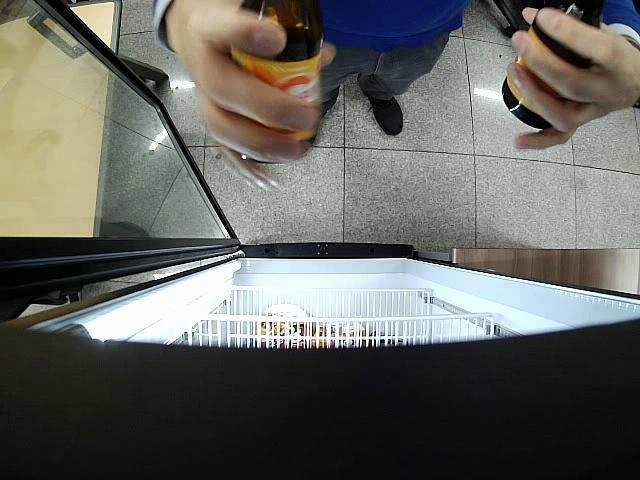17_vita500: (232, 0, 320, 152), (502, 2, 602, 130)
